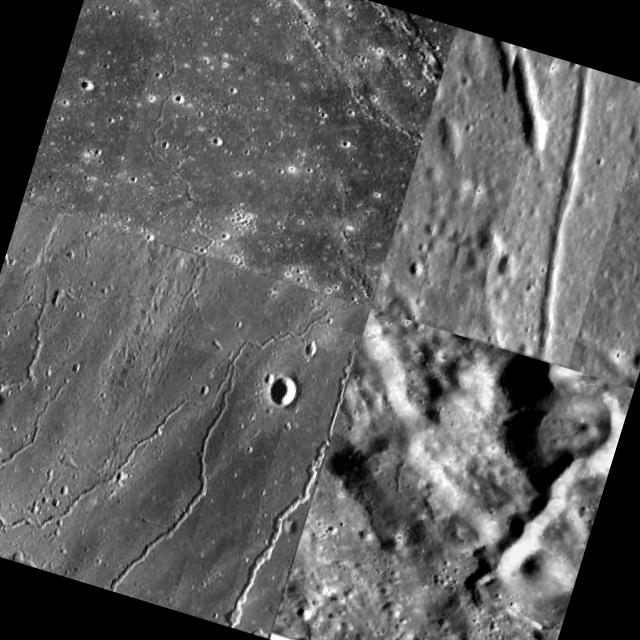rille: (0, 201, 369, 636), (101, 0, 354, 275), (411, 349, 632, 640), (467, 56, 640, 366), (58, 330, 245, 608), (222, 322, 360, 638)
